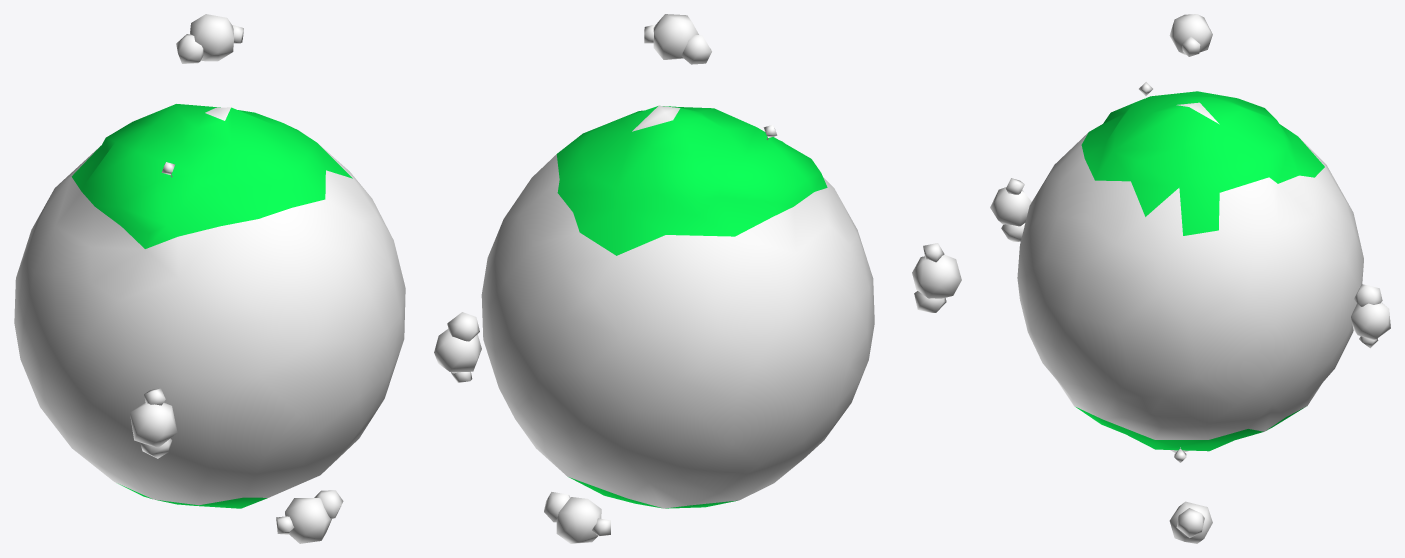
3 renders of one model, left to right at view 1: azimuth 30°, elevation 25°; view 2: azimuth 150°, elevation 25°; view 3: azimuth 270°, elevation 25°, orthographic. The views are drawn at different scales.
Visible parts, largest first — view 1: 棱角球.001; view 2: 棱角球.001; view 3: 棱角球.001.
Boxes of the visible parts, bbox=[...] form: 棱角球.001: bbox=[14, 14, 405, 543]; 棱角球.001: bbox=[434, 14, 961, 543]; 棱角球.001: bbox=[990, 14, 1390, 543].
Bounding box in the file's own units: 205 × 309 × 232.
Materials: 1 (1 with a texture image).
